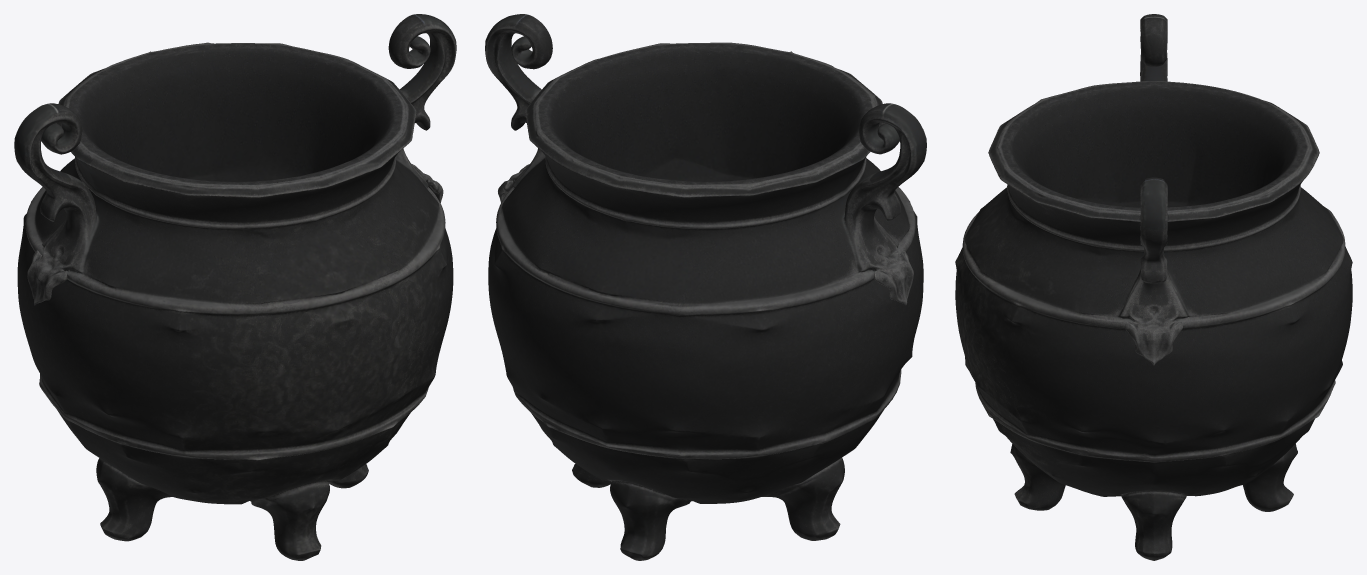
The model's file is Meshy_AI_cauldron_0910175215_texture.fbx.
3 views of the same model, side by side, from view 1: azimuth 30°, elevation 25°; view 2: azimuth 150°, elevation 25°; view 3: azimuth 270°, elevation 25° (orthographic). The views are drawn at different scales.
Visible parts, largest first — view 1: Mesh_0; view 2: Mesh_0; view 3: Mesh_0.
Boxes of the visible parts, x1,y1,x2,y2 form: Mesh_0: (14, 14, 456, 560); Mesh_0: (485, 14, 926, 560); Mesh_0: (955, 14, 1352, 560).
Bounding box in the file's own units: 190 × 189 × 165.
1 material, 1 textured.
